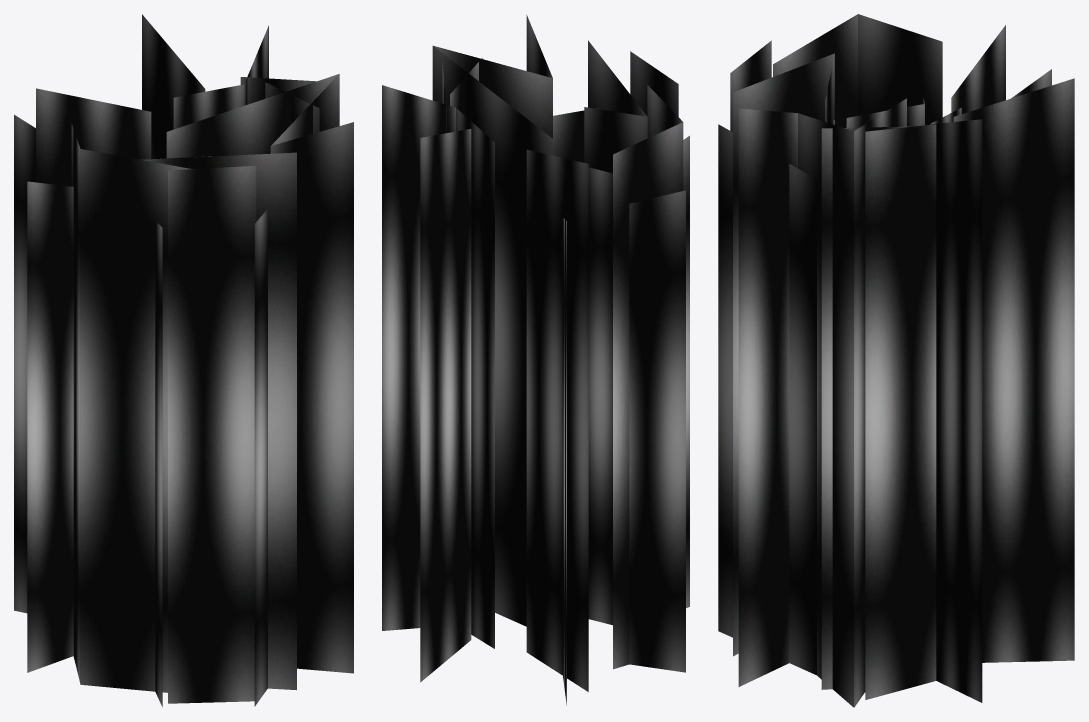
Rendered from vfx_kurp_0023.dae.
3 views of the same model, side by side, from view 1: azimuth 30°, elevation 25°; view 2: azimuth 150°, elevation 25°; view 3: azimuth 270°, elevation 25° (orthographic). The views are drawn at different scales.
Visible parts, largest first — view 1: vfx_kurp_0023; view 2: vfx_kurp_0023; view 3: vfx_kurp_0023.
Boxes of the visible parts, <box> form: vfx_kurp_0023: <box>14,14,353,707</box>; vfx_kurp_0023: <box>382,15,689,705</box>; vfx_kurp_0023: <box>718,14,1074,707</box>.
Size of the model in its own units: 3.28 by 3.39 by 6.12.
Materials: 1 (1 with a texture image).
